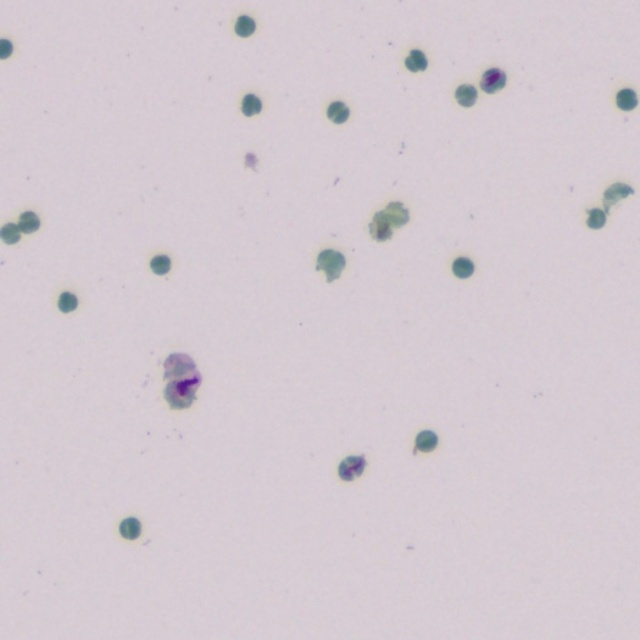intermediate: (338, 456, 364, 480), (482, 70, 504, 90)
non_viable: (316, 249, 345, 280), (605, 184, 630, 208), (327, 101, 349, 123), (414, 430, 437, 451), (405, 49, 427, 70), (119, 517, 140, 538), (616, 88, 636, 110), (452, 257, 473, 277), (241, 94, 261, 115), (235, 15, 255, 36), (58, 291, 77, 312), (150, 255, 170, 274), (457, 86, 476, 105), (17, 213, 37, 231), (1, 224, 19, 241), (588, 210, 604, 227), (0, 39, 11, 57)
